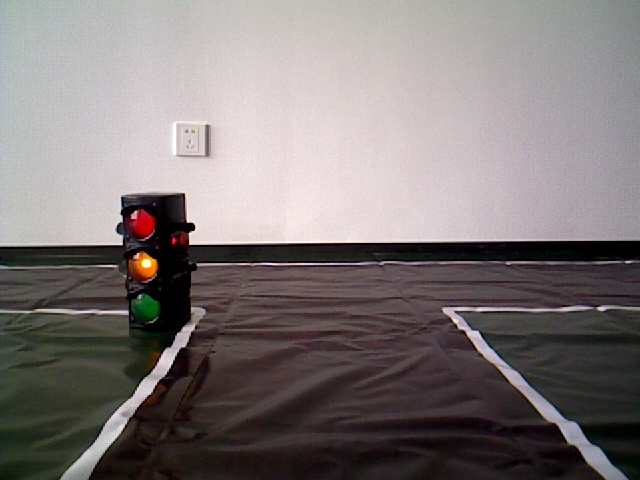yellow: (115, 192, 193, 324)
